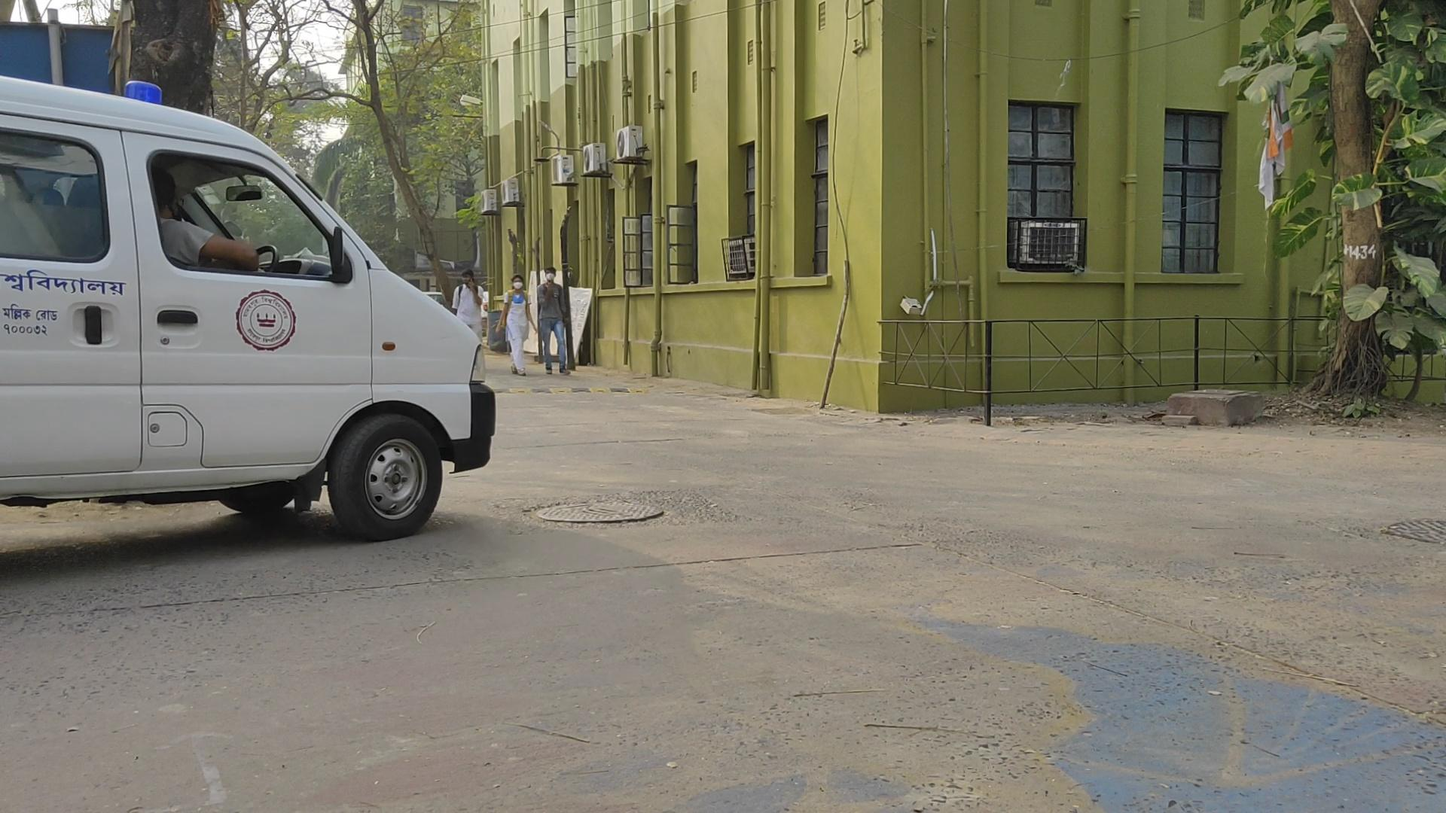van: (2, 70, 497, 541)
